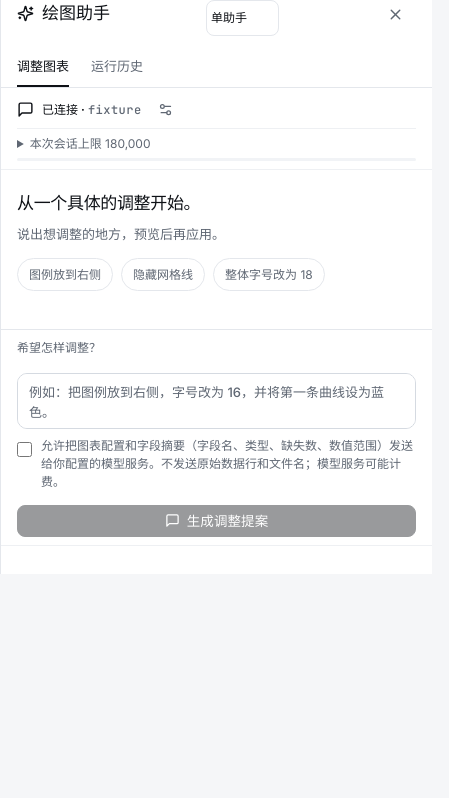
Test: retains the old proposal when refinement fails before a run is created
Check: the text "fixture" is shown, box [88,102,142,118]
Type "字号改为18" into the text box labelled "希望怎样调整？" at (216, 401), box [17,373,416,429]
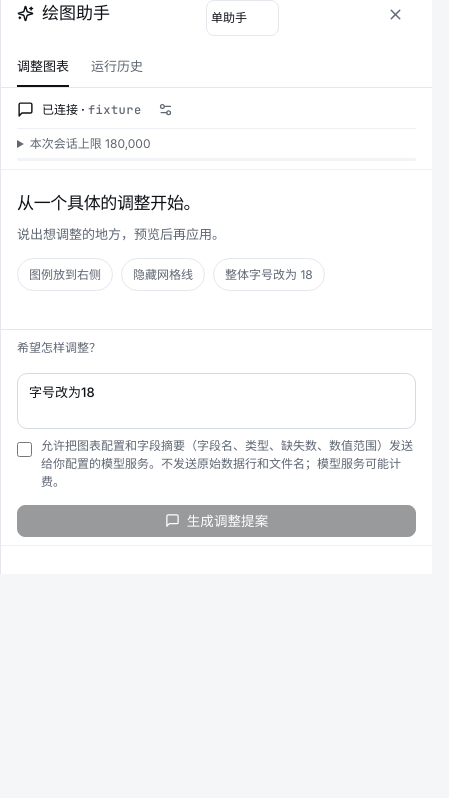
Click the checkbox labelled "允许把图表配置和字段摘要（字段名、类型、缺失数、数值范围）发送给你配置的模型服务。不发送原始数据行和文件名；模型服务可能计费。" at (24, 449), box [17,442,32,457]
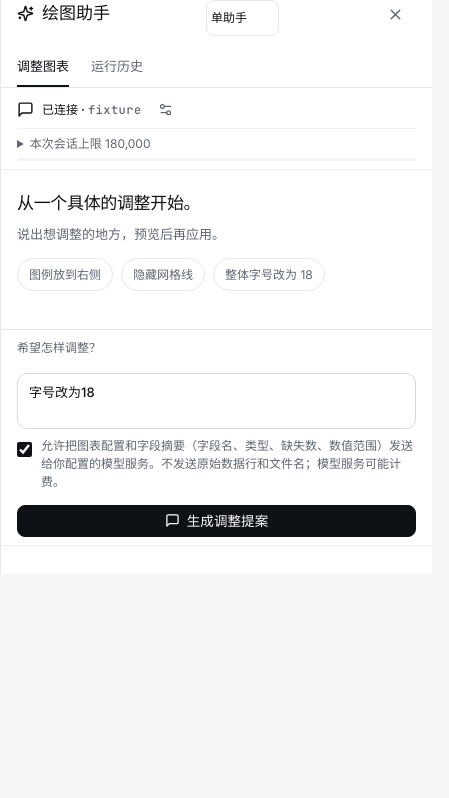
Click the button "生成调整提案" at (216, 521), box [17,505,416,537]
(page scrolled)
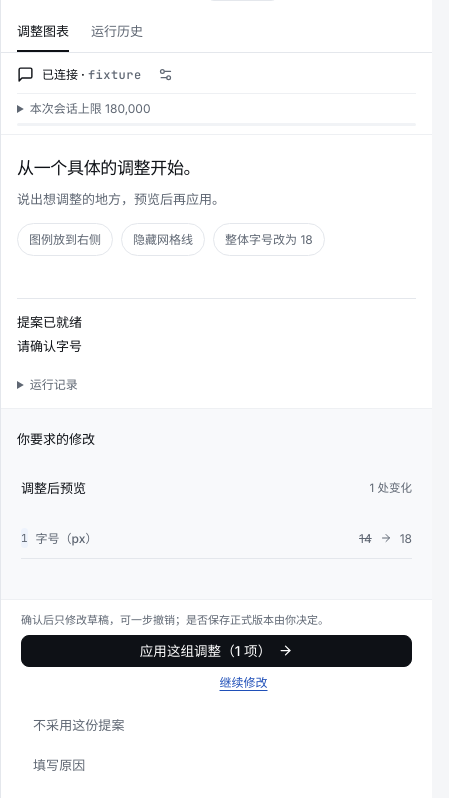
Check: the button "继续修改" is shown
Click the button "继续修改" at (244, 682), box [220,673,268,692]
(page scrolled)
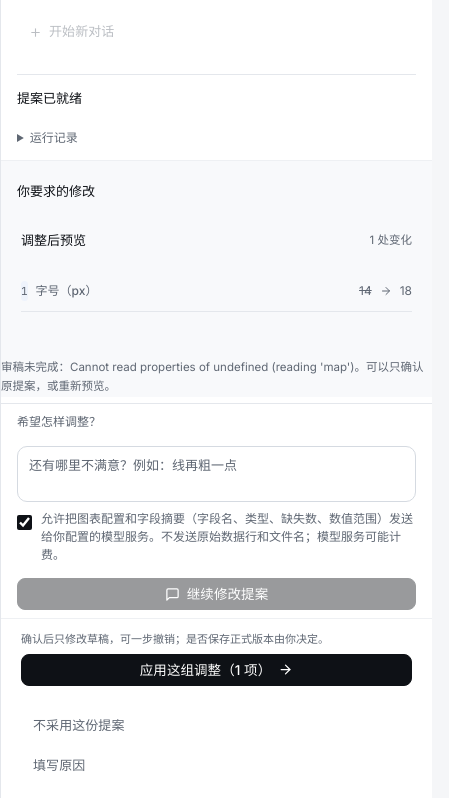
Type "继续" into the text box labelled "希望怎样调整？" at (216, 474), box [17,446,416,502]
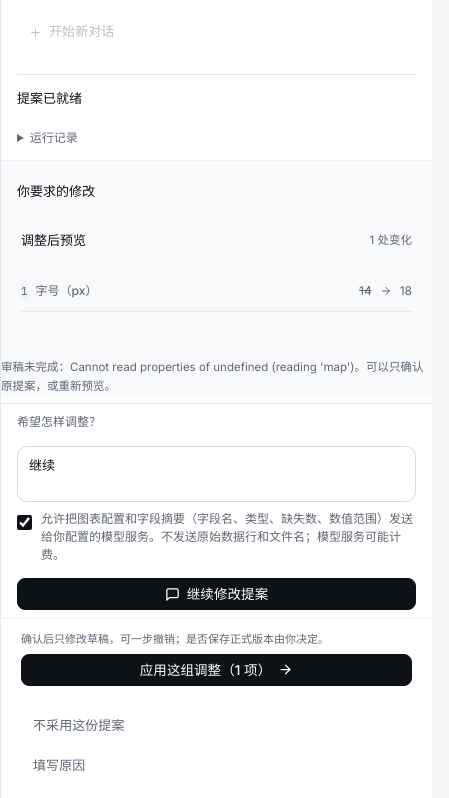
Click the button "继续修改提案" at (216, 594), box [17,578,416,610]
(page scrolled)
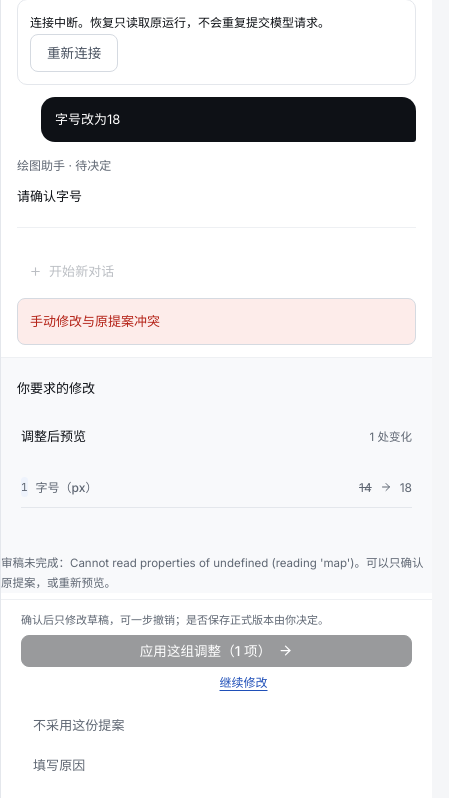
Check: the list named "修改明细" shows "18", box [400,480,412,495]
Check: the text "手动修改与原提案冲突" is shown, box [17,298,416,345]
